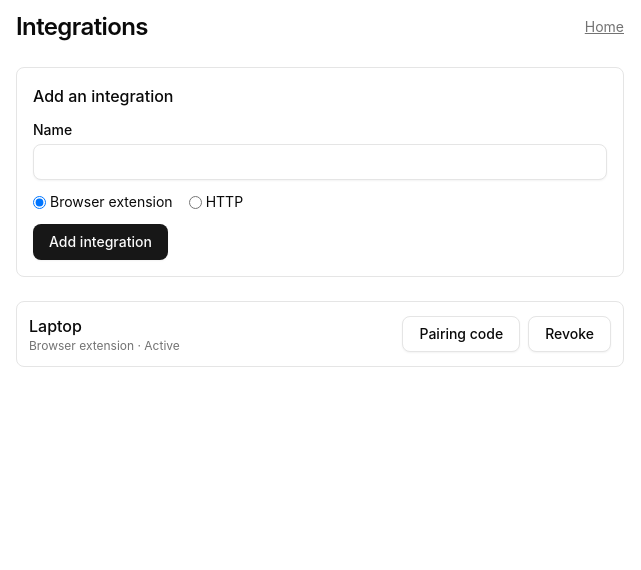
Test: integrations page › drops the pairing code from the mutation cache when the panel is closed
Click the button with aria-label "pairing code for laptop": [461, 334] box x1=402 y1=316 x2=520 y2=352
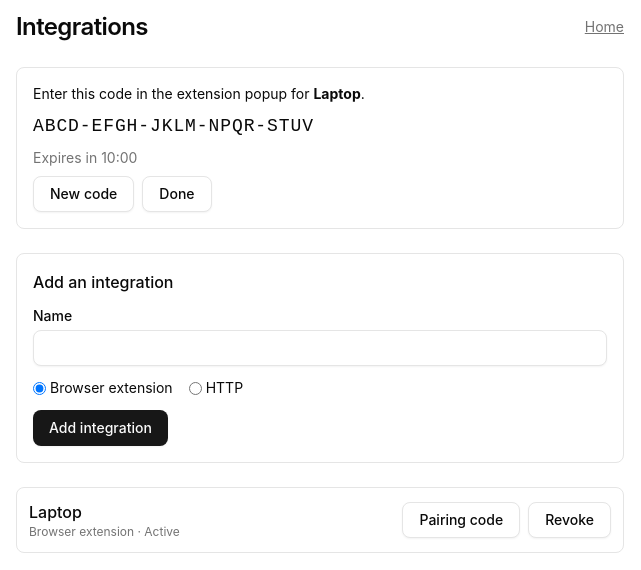
Now the text "ABCD-EFGH-JKLM-NPQR-STUV" is shown, box x1=33 y1=116 x2=314 y2=136
Click the button "Done": [177, 194] box x1=142 y1=176 x2=212 y2=212
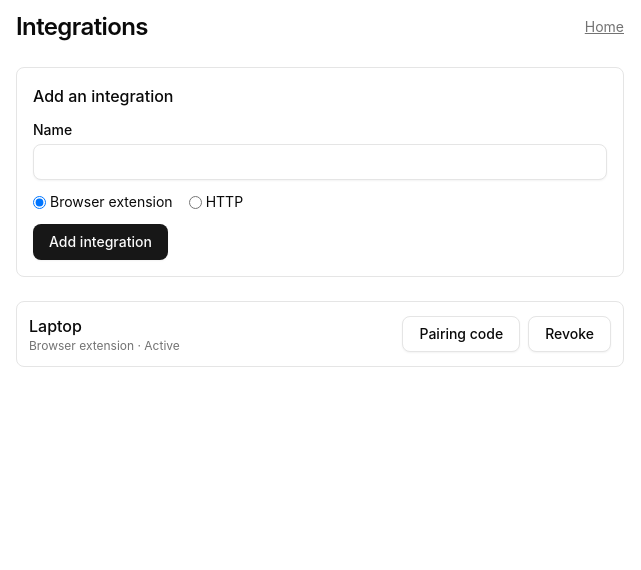
Now the text with test id "pairing-code" is gone
